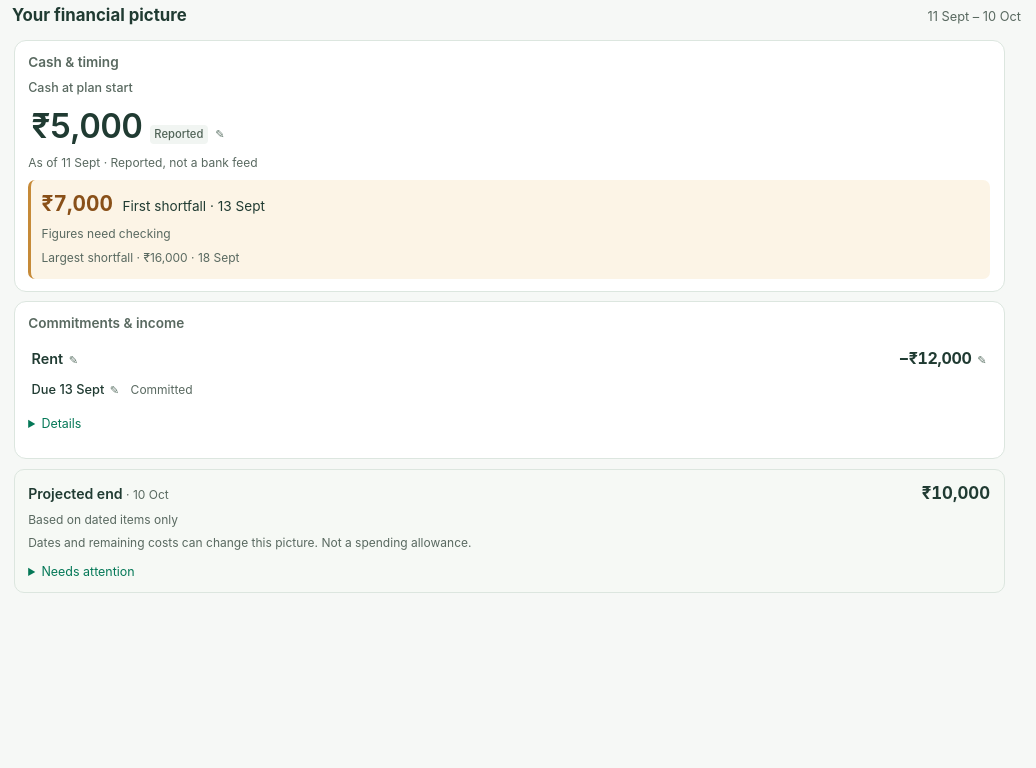
keeps a pending inline cash edit open and prevents another submission
Click the button with aria-label "Edit Cash at plan start": {"x": 128, "y": 126} left=28, top=97, right=228, bottom=154
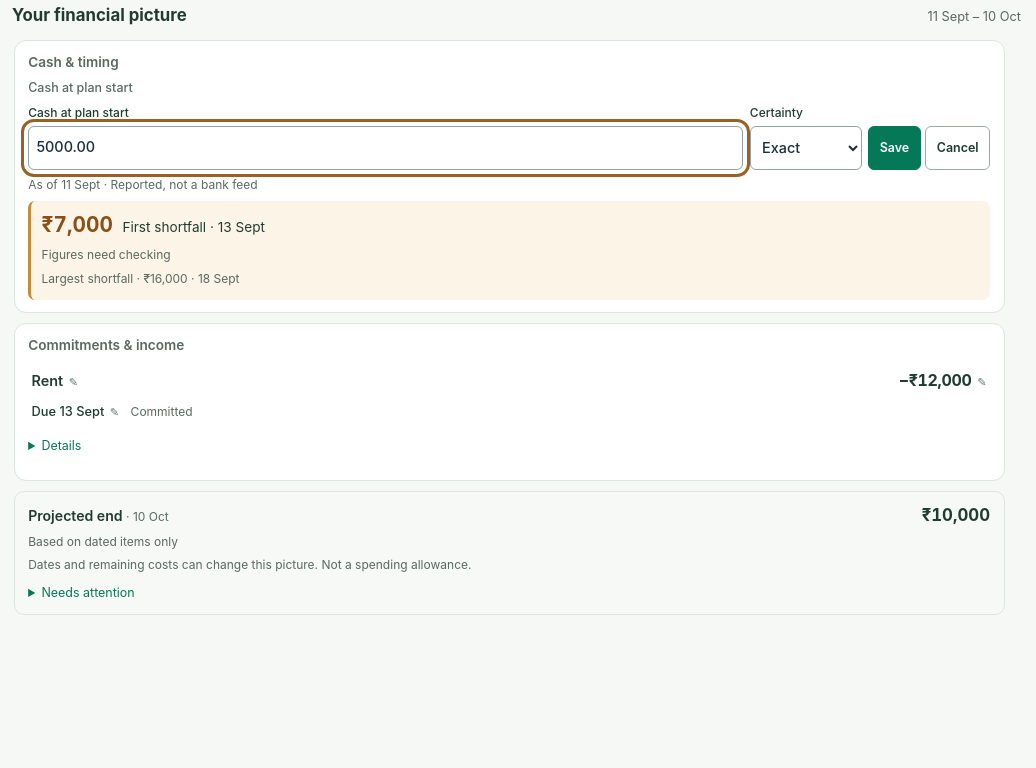
Replace the text in the field labelled "Cash at plan start" with "6000": {"x": 386, "y": 148} left=28, top=126, right=744, bottom=170
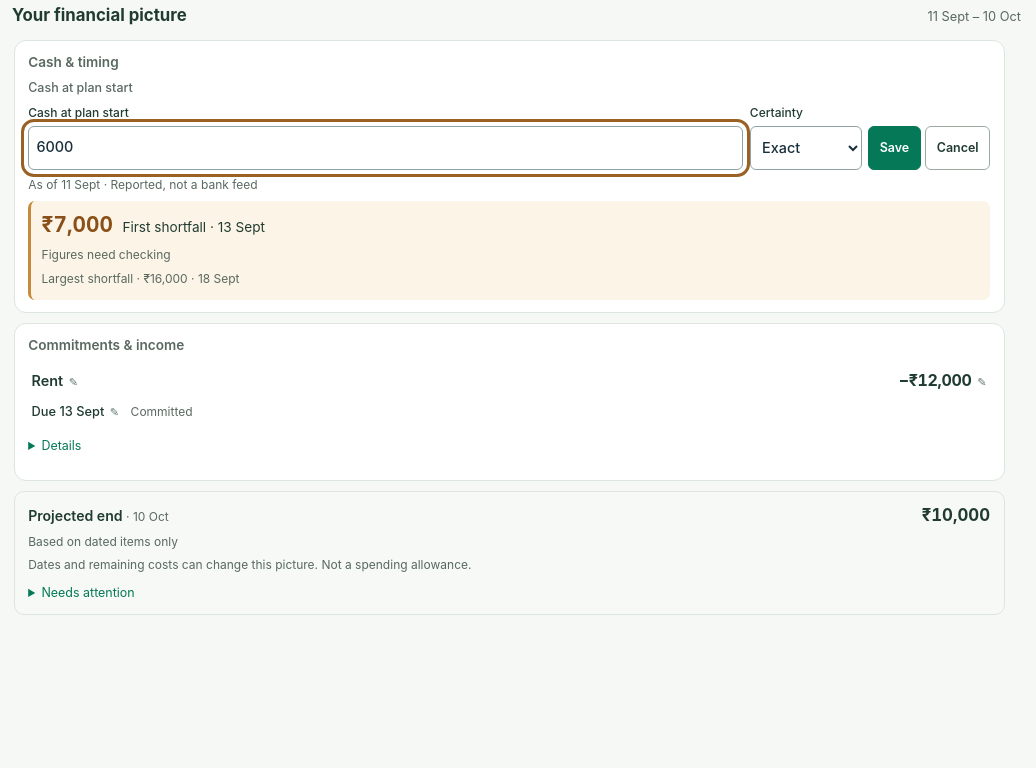
Click the button with aria-label "Save Cash at plan start": {"x": 894, "y": 148} left=868, top=126, right=920, bottom=170
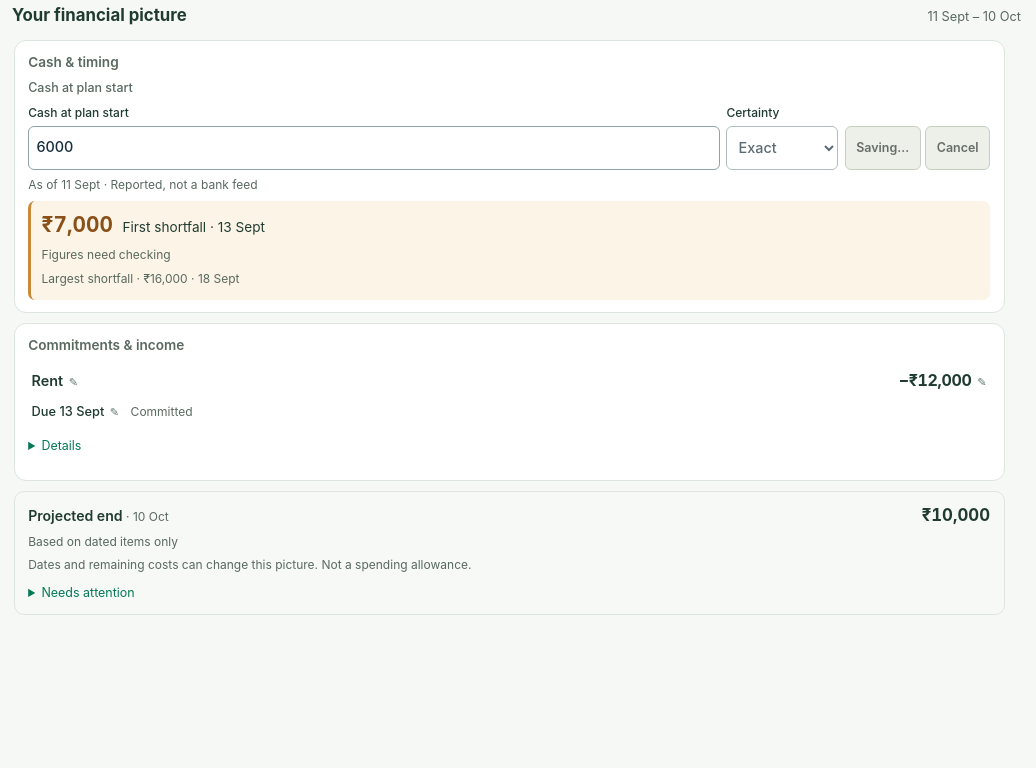
Now the form named "Edit Cash at plan start" is shown, box left=28, top=97, right=990, bottom=176
Now the button with aria-label "Save Cash at plan start" is disabled
Click the button with aria-label "Save Cash at plan start": {"x": 883, "y": 148} left=845, top=126, right=921, bottom=170
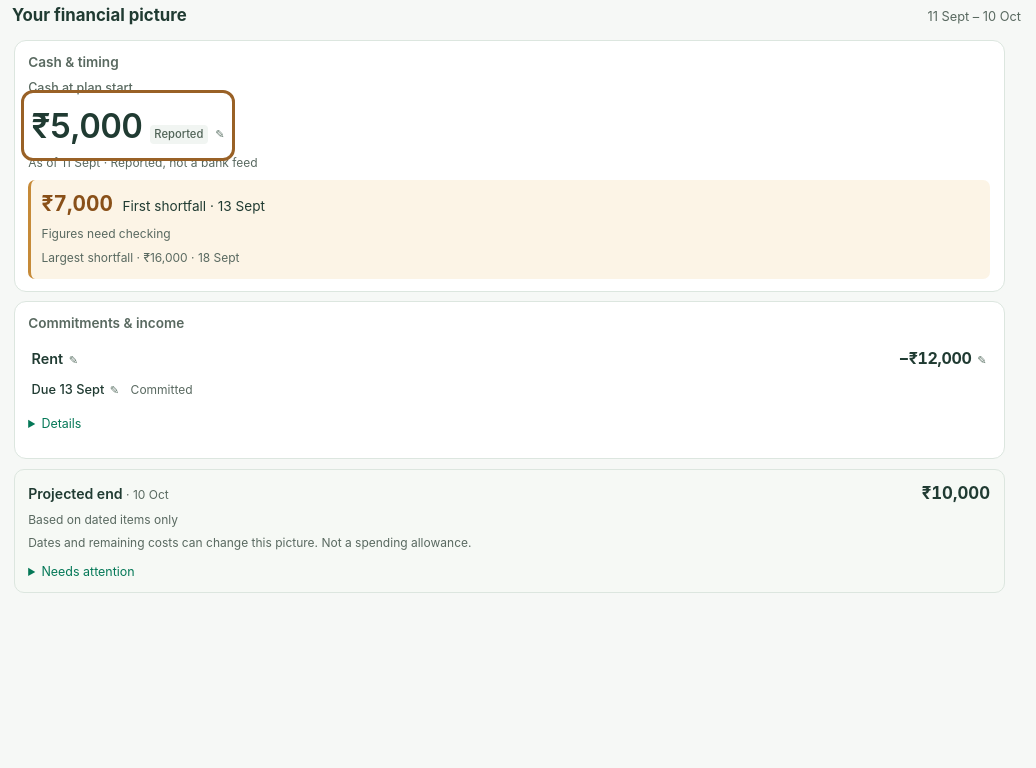
Now the form is gone
